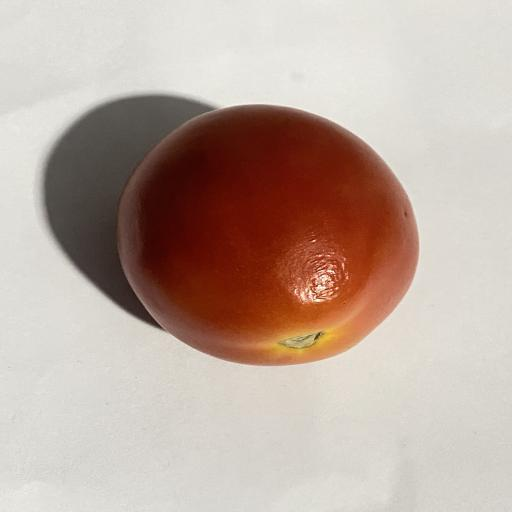overipe: (117, 105, 418, 365)
